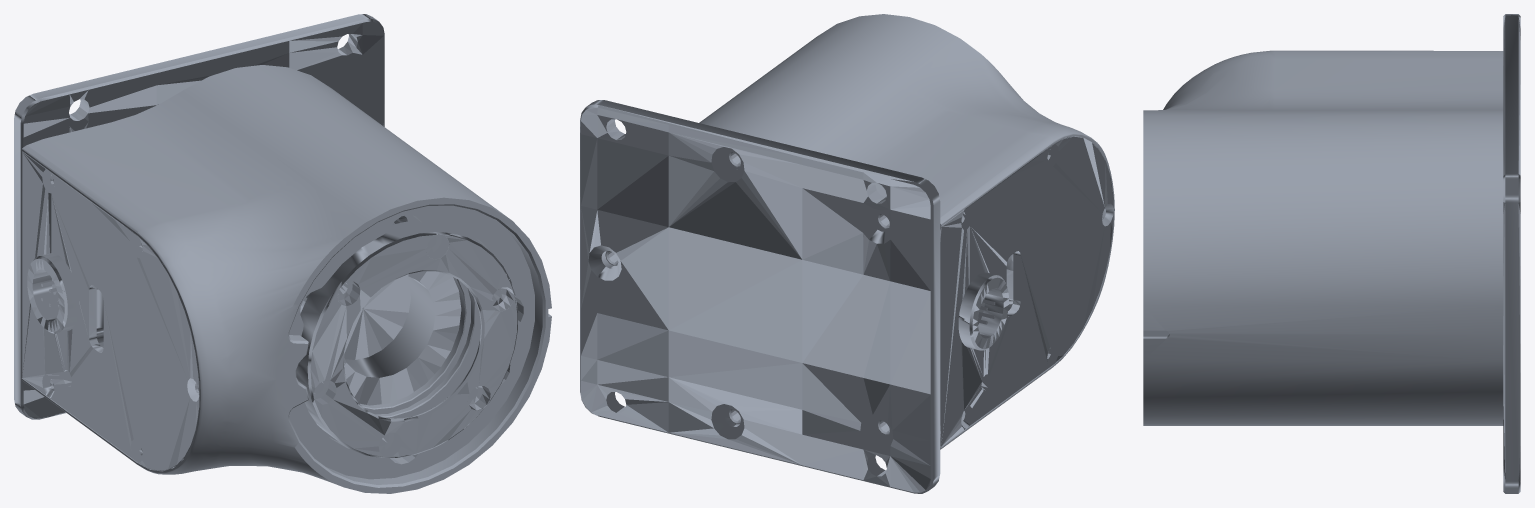
The picture shows the model from 3 angles, left to right: view 1: azimuth 30°, elevation 25°; view 2: azimuth 150°, elevation 25°; view 3: azimuth 270°, elevation 25°; orthographic projection. The views are drawn at different scales.
Bounding box in the file's own units: 0.0985 × 0.08 × 0.086.
